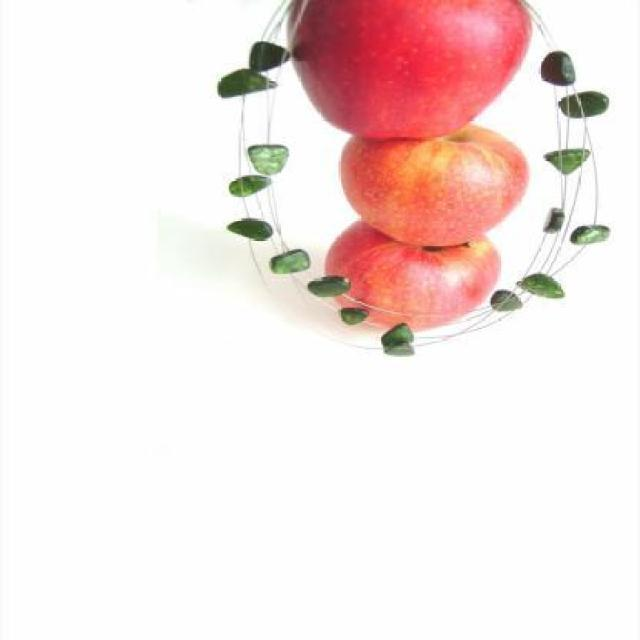Apple: (286, 1, 559, 138), (336, 121, 532, 246), (320, 216, 500, 329)
